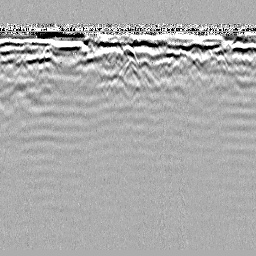cavity: (122, 42, 138, 64)
